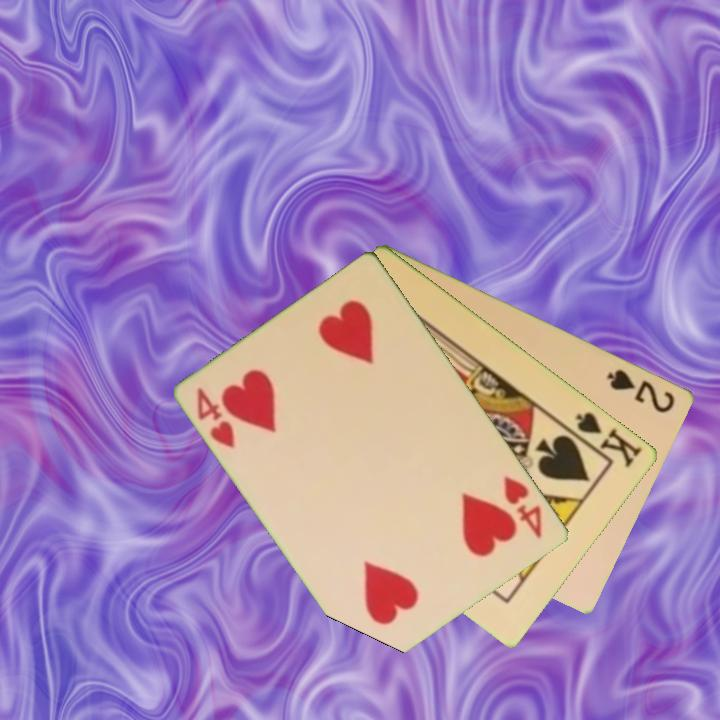2s: (604, 365, 678, 416)
4h: (500, 472, 546, 541), (193, 384, 239, 452)
Ks: (565, 408, 646, 471)
